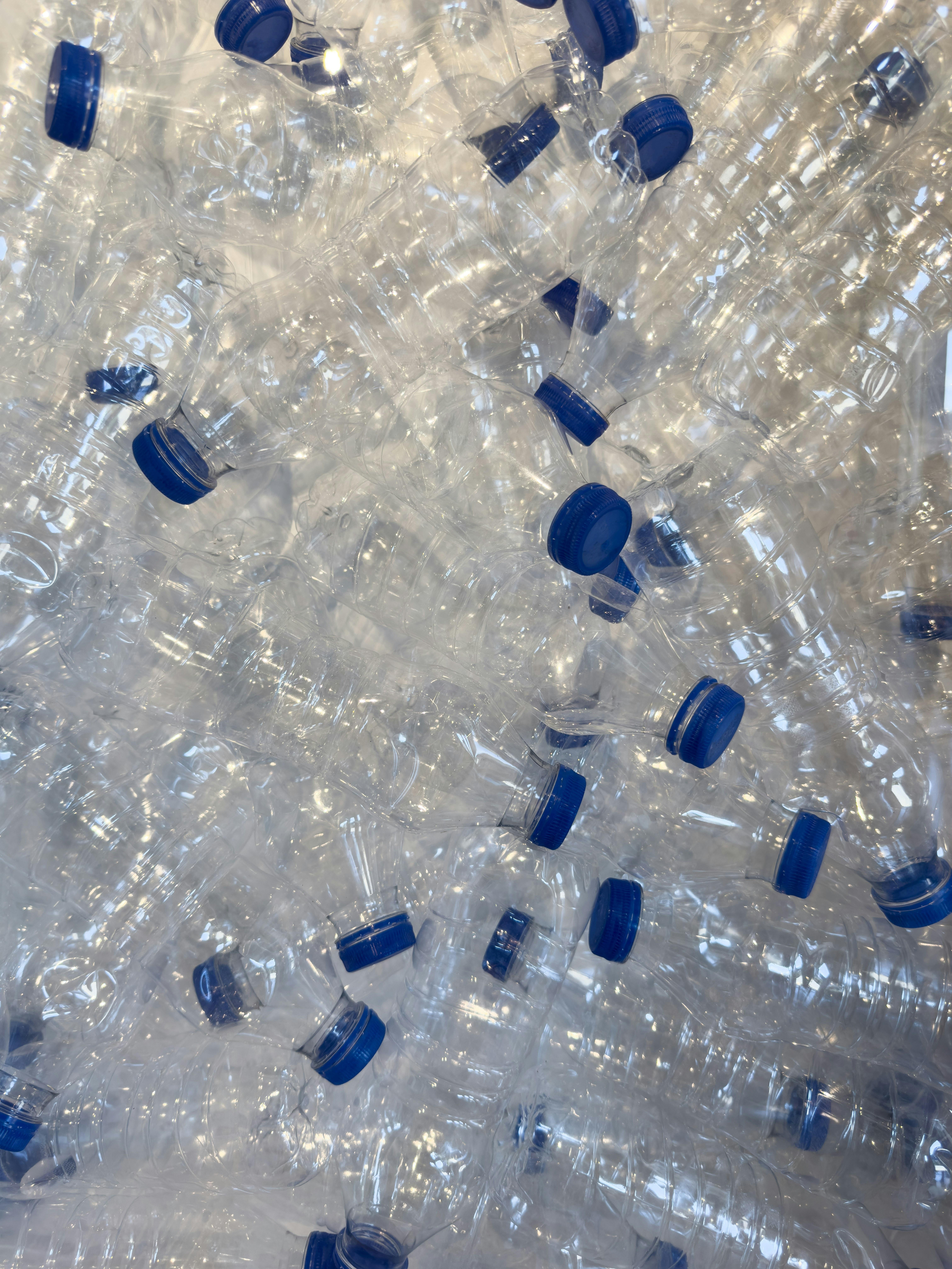Bottle-Detection: (128, 179, 675, 518), (2, 680, 414, 1095), (282, 444, 760, 776), (13, 694, 398, 1075), (331, 782, 614, 1269), (156, 578, 620, 870), (246, 290, 634, 589), (475, 872, 948, 1075), (493, 1081, 944, 1269), (700, 617, 952, 932), (556, 705, 855, 916), (3, 1160, 382, 1269)
bottlr: (564, 844, 952, 1092)
